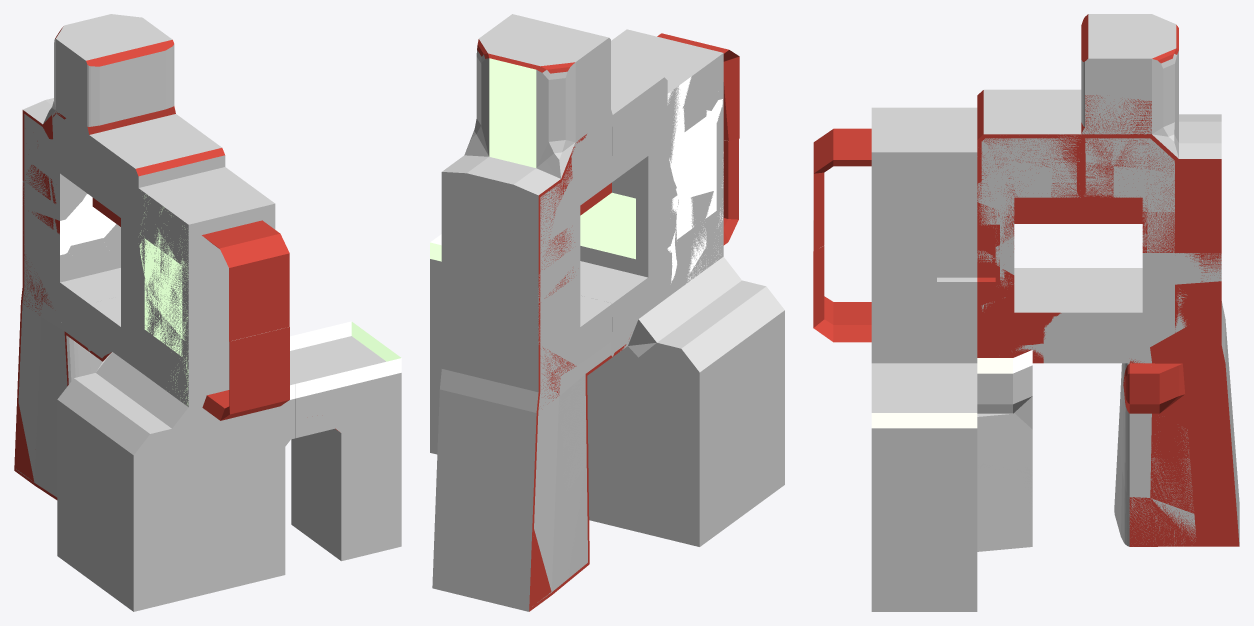
File: Weird building.fbx
3 views of the same model, side by side, from view 1: azimuth 30°, elevation 25°; view 2: azimuth 150°, elevation 25°; view 3: azimuth 270°, elevation 25° (orthographic). The views are drawn at different scales.
Parts seen in each view (by area): view 1: Cube_cell.100, Cube, Cube_cell.110, Cube_cell.023, Cube_cell.079, Cube_cell.118, Cube_cell.047, Cube_cell.115, Cube_cell.058, Cube_cell.108, Cube_cell.003, Cube_cell.016 (+26 smaller); view 2: Cube, Cube_cell.100, Cube_cell.067, Cube_cell.060, Cube_cell.036, Cube_cell.110, Cube_cell.045, Cube_cell.026, Cube_cell.050, Cube_cell.090, Cube_cell.047, Cube_cell.016 (+13 smaller); view 3: Cube, Cube_cell.100, Cube_cell.063, Cube_cell.108, Cube_cell.110, Cube_cell.060, Cube_cell.076, Cube_cell.040, Cube_cell.031, Cube_cell.010, Cube_cell.019, Cube_cell.059 (+25 smaller).
Part boxes in pixels (box(x1,y1,x2,y2)): Cube_cell.100: box(57, 141, 290, 611); Cube: box(14, 16, 401, 610); Cube_cell.110: box(89, 143, 294, 611); Cube_cell.023: box(310, 321, 401, 484); Cube_cell.079: box(109, 370, 225, 522); Cube_cell.118: box(295, 411, 388, 496); Cube_cell.047: box(66, 39, 131, 123); Cube_cell.115: box(327, 486, 380, 561); Cube_cell.058: box(216, 233, 289, 325); Cube_cell.108: box(291, 474, 401, 550); Cube_cell.003: box(183, 203, 275, 279); Cube_cell.016: box(146, 300, 227, 379); Cube: box(430, 32, 783, 611); Cube_cell.100: box(580, 29, 784, 506); Cube_cell.067: box(520, 348, 588, 538); Cube_cell.060: box(503, 463, 589, 608); Cube_cell.036: box(549, 143, 612, 239); Cube_cell.110: box(580, 82, 726, 357); Cube_cell.045: box(635, 417, 784, 546); Cube_cell.026: box(571, 90, 612, 176); Cube_cell.050: box(617, 112, 668, 178); Cube_cell.090: box(546, 307, 602, 369); Cube_cell.047: box(544, 26, 610, 103); Cube_cell.016: box(675, 188, 723, 266); Cube: box(813, 25, 1239, 597); Cube_cell.100: box(813, 89, 1081, 551); Cube_cell.063: box(1150, 371, 1238, 529); Cube_cell.108: box(871, 501, 977, 611); Cube_cell.110: box(813, 129, 1081, 373); Cube_cell.060: box(1114, 413, 1239, 546); Cube_cell.076: box(1114, 197, 1221, 252); Cube_cell.040: box(1122, 380, 1159, 497); Cube_cell.031: box(1043, 286, 1081, 363); Cube_cell.010: box(1142, 253, 1221, 285); Cube_cell.019: box(1150, 324, 1225, 391); Cube_cell.059: box(871, 269, 911, 345).
Size of the model in its own units: 4942 by 8152 by 6447.
